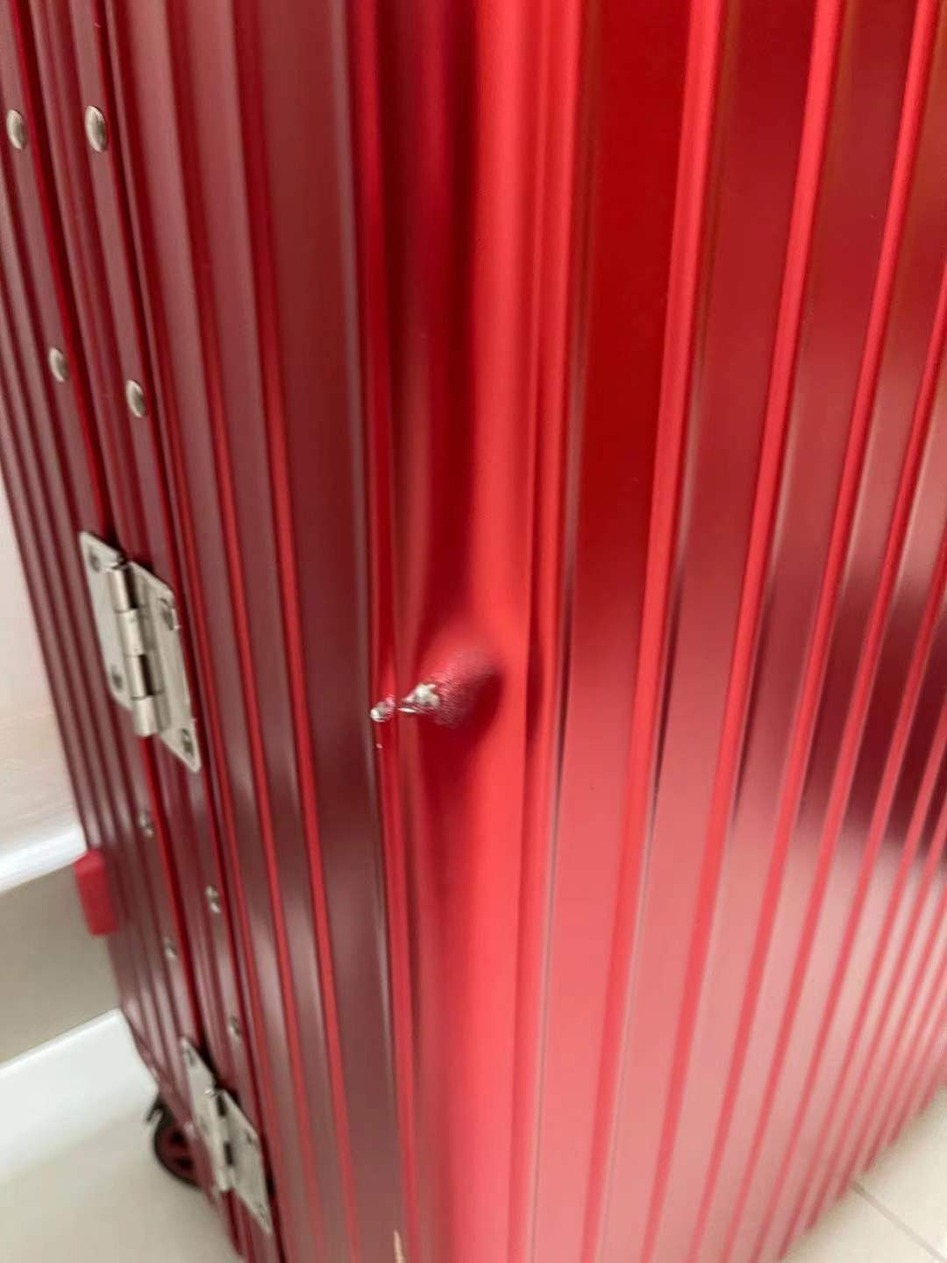rupture: (416, 620, 507, 754)
